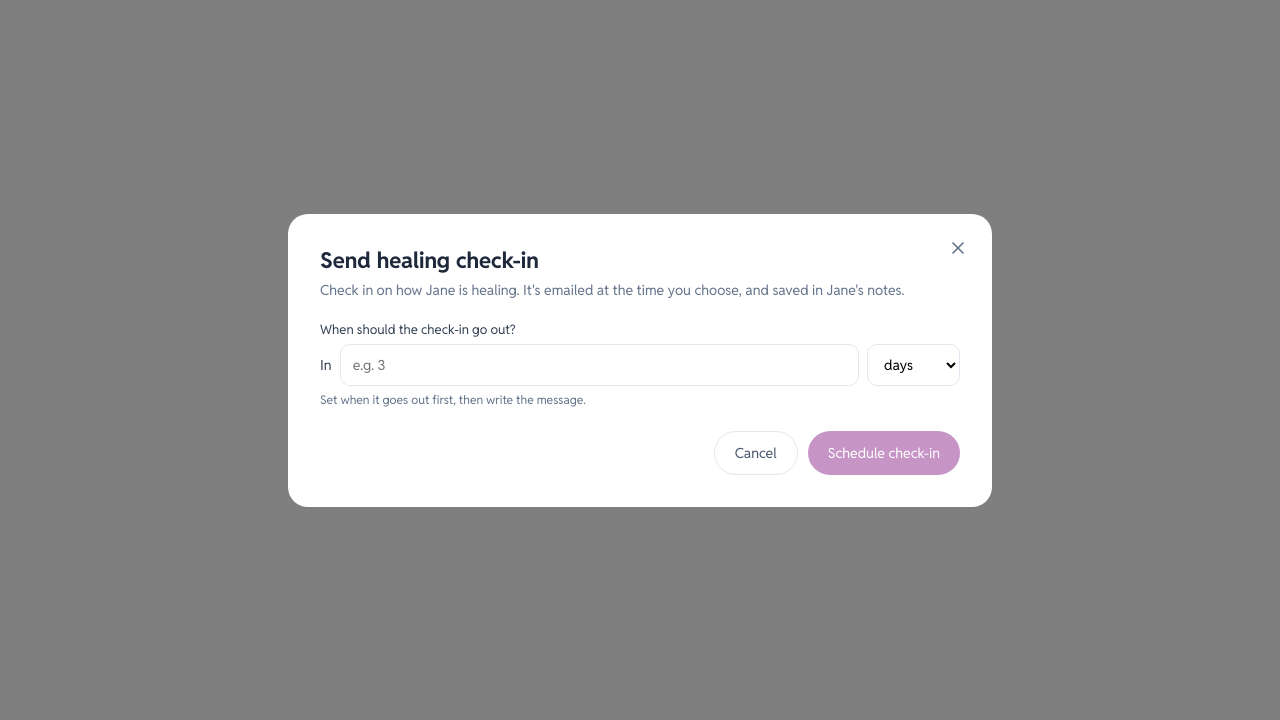
HealingCheckInModal › keeps each unit within its limit
This screenshot has width=1280, height=720.
Step 1. Select "months" in the dropdown named "Days, weeks or months" → (914, 364), box [867,344,960,386]
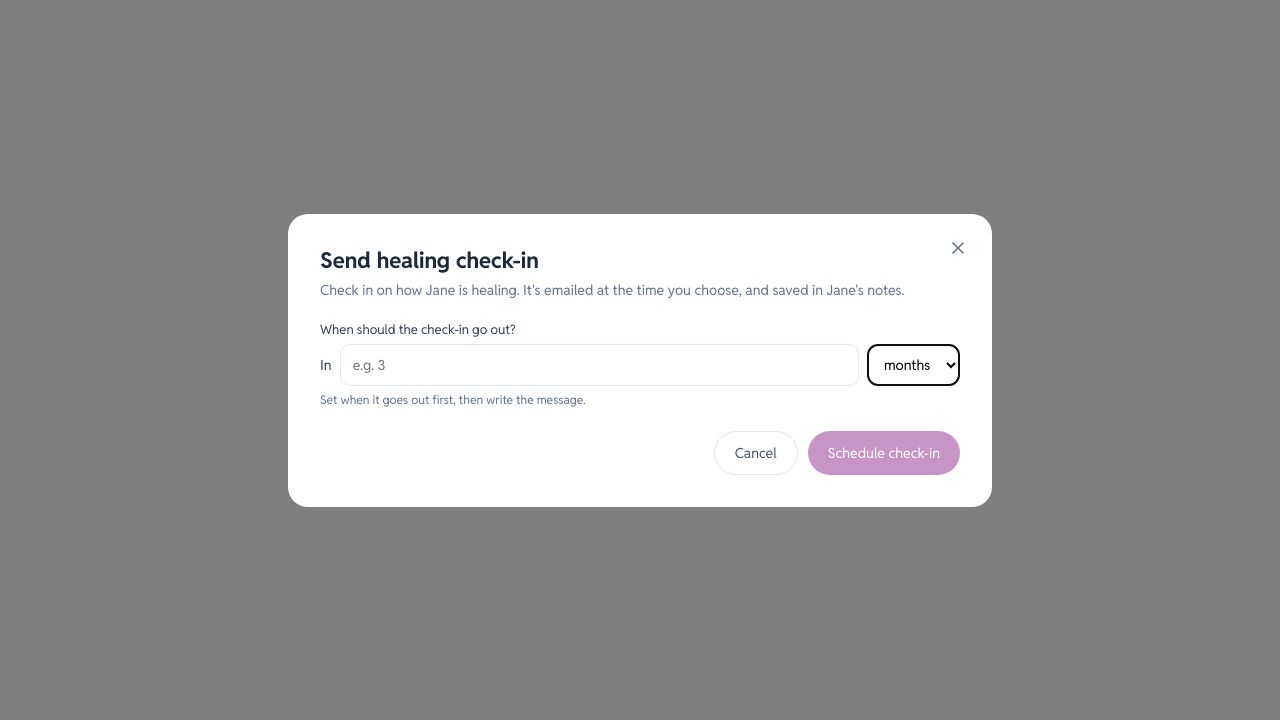
Step 2. Type "13" into the number field named "How many" → (599, 364), box [340,344,859,386]
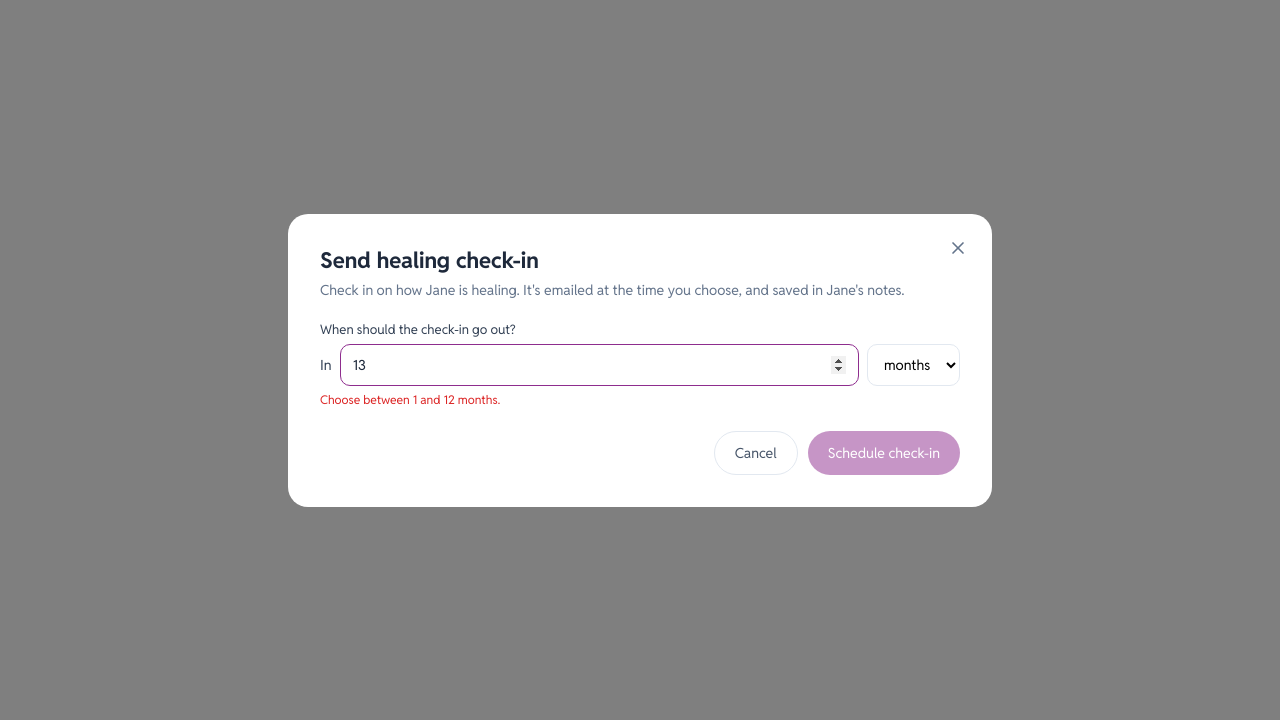
Result: the text "Choose between 1 and 12 months." is shown at [320,392,500,406]
